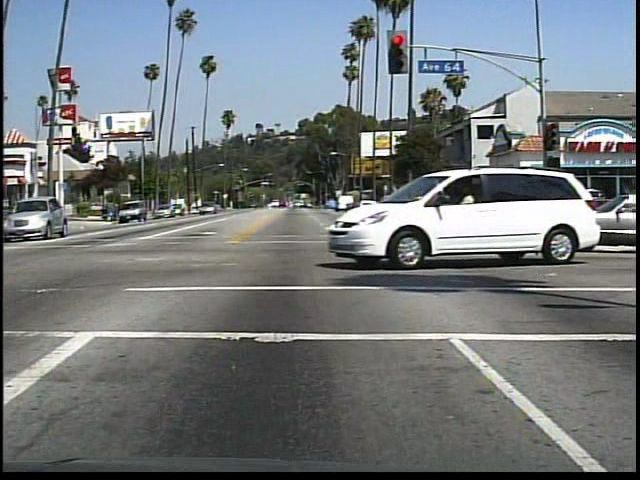person: (541, 187, 567, 237)
